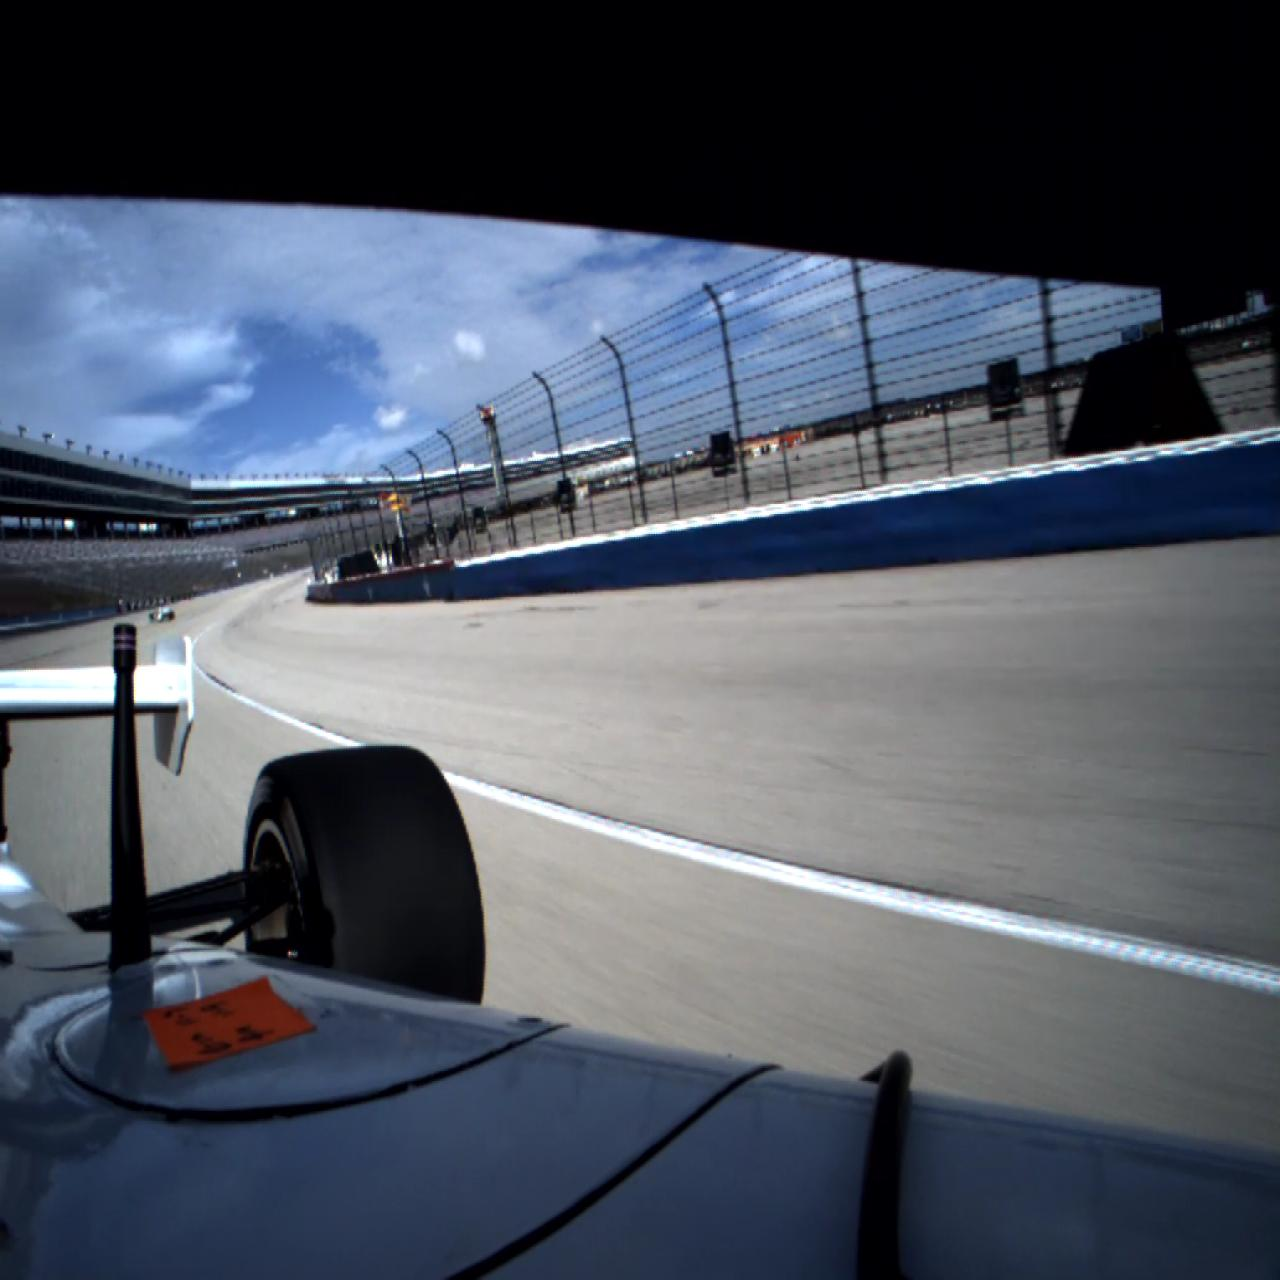AV: (149, 607, 176, 624)
Wheel: (243, 744, 486, 1006)
